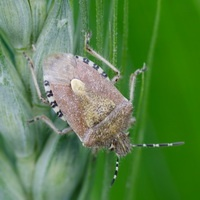insect: (44, 54, 130, 145), (111, 146, 199, 199), (69, 77, 119, 137)
